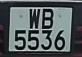3: (40, 30, 54, 51)
5: (13, 28, 28, 53), (26, 31, 41, 52)
6: (54, 28, 66, 52)
B: (41, 8, 55, 31)
W: (27, 8, 41, 31)
